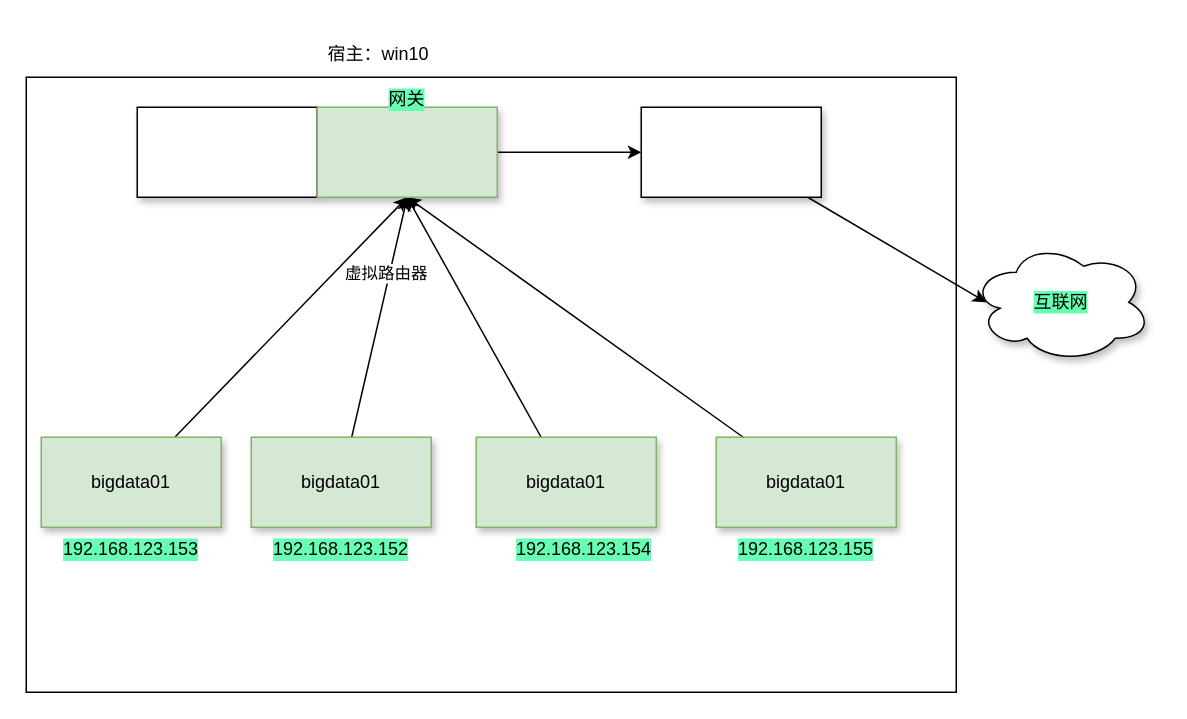
Image size: 1187x719. Some labels were removed from this diagram. Each missing label, with the centre of its shape:
"vmnet8" goes at (408,154).
"vmware" goes at (228,154).
"本地连接" goes at (732,154).
